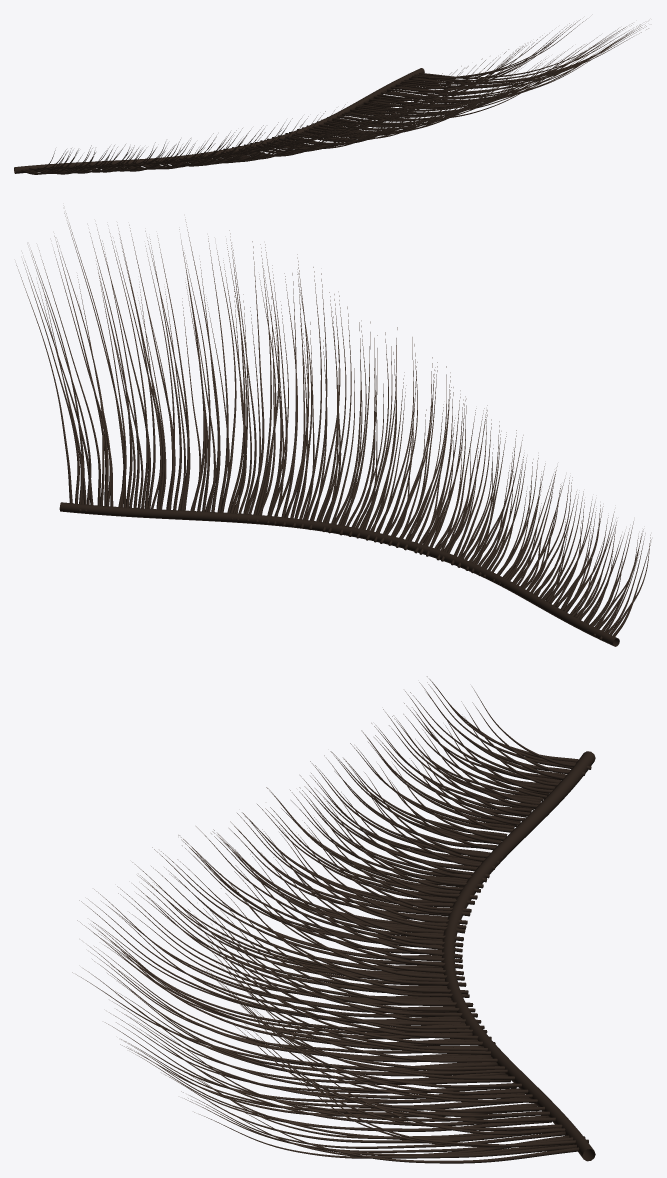
Rendered from cat_classic_right.glb.
The picture shows the model from 3 angles, top to bottom: view 1: azimuth 30°, elevation 25°; view 2: azimuth 150°, elevation 25°; view 3: azimuth 270°, elevation 25°; orthographic projection. The views are drawn at different scales.
Visible parts, largest first — view 1: cat_classic_right; view 2: cat_classic_right; view 3: cat_classic_right.
Boxes of the visible parts, left/top/right/bottom form: cat_classic_right: left=14, top=19, right=648, bottom=174; cat_classic_right: left=16, top=213, right=651, bottom=646; cat_classic_right: left=72, top=676, right=595, bottom=1163.
Bounding box in the file's own units: 3.95 × 0.8144 × 1.67.
